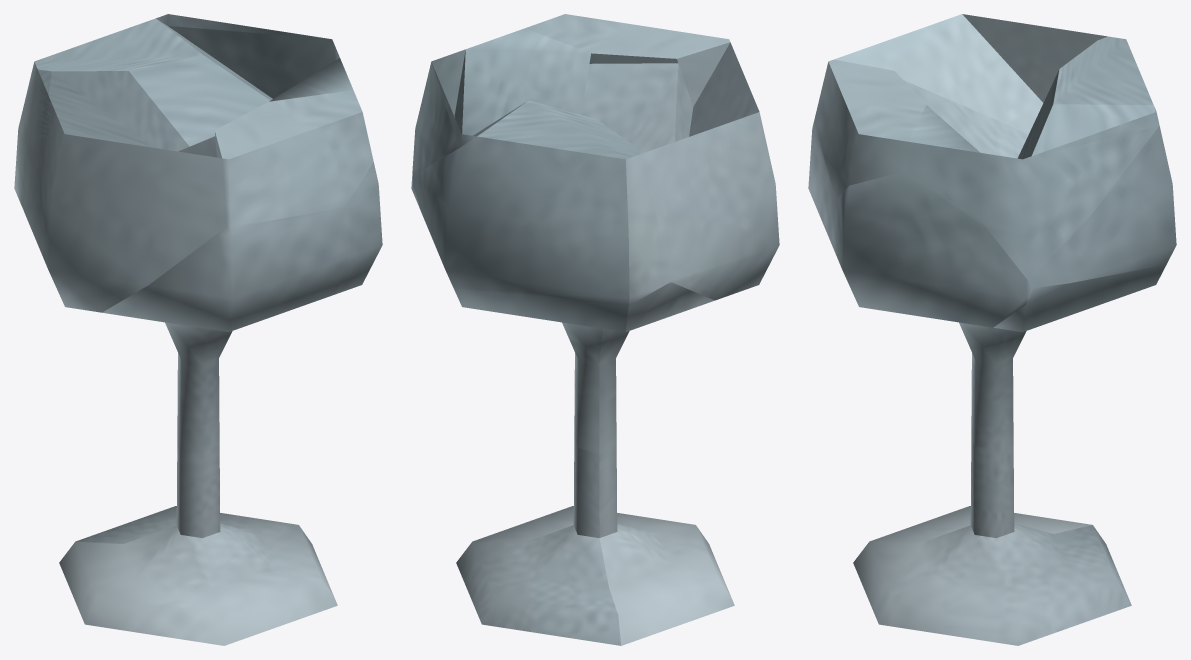
Rendered from verre_fragments.FBX.
3 renders of one model, left to right at view 1: azimuth 30°, elevation 25°; view 2: azimuth 150°, elevation 25°; view 3: azimuth 270°, elevation 25°, orthographic.
Visible parts, largest first — view 1: verre001_Part_3, verre001_Part_10, verre001_Part_1, verre001_Part_8, verre001_Part_4, verre001_Part_9, verre001_Part_5, verre001_Part_2, verre001_Part_6; view 2: verre001_Part_1, verre001_Part_3, verre001_Part_10, verre001_Part_5, verre001_Part_6, verre001_Part_7, verre001_Part_4, verre001_Part_9; view 3: verre001_Part_3, verre001_Part_2, verre001_Part_1, verre001_Part_10, verre001_Part_9, verre001_Part_4, verre001_Part_5, verre001_Part_6, verre001_Part_7, verre001_Part_8.
Part boxes in pixels (left/top/right/bottom): verre001_Part_3: left=59, top=443, right=337, bottom=645; verre001_Part_10: left=24, top=70, right=226, bottom=312; verre001_Part_1: left=14, top=18, right=272, bottom=207; verre001_Part_8: left=102, top=208, right=347, bottom=332; verre001_Part_4: left=214, top=90, right=373, bottom=226; verre001_Part_9: left=156, top=14, right=339, bottom=98; verre001_Part_5: left=22, top=207, right=232, bottom=453; verre001_Part_2: left=335, top=162, right=382, bottom=293; verre001_Part_6: left=269, top=58, right=353, bottom=101; verre001_Part_1: left=413, top=100, right=670, bottom=305; verre001_Part_3: left=456, top=436, right=734, bottom=645; verre001_Part_10: left=641, top=42, right=779, bottom=300; verre001_Part_5: left=412, top=185, right=714, bottom=454; verre001_Part_6: left=454, top=28, right=590, bottom=135; verre001_Part_7: left=581, top=63, right=693, bottom=153; verre001_Part_4: left=525, top=14, right=730, bottom=106; verre001_Part_9: left=412, top=49, right=476, bottom=174; verre001_Part_3: left=853, top=441, right=1131, bottom=645; verre001_Part_2: left=834, top=171, right=1032, bottom=327; verre001_Part_1: left=1017, top=36, right=1176, bottom=287; verre001_Part_10: left=834, top=14, right=1107, bottom=133; verre001_Part_9: left=980, top=107, right=1159, bottom=281; verre001_Part_4: left=814, top=59, right=926, bottom=199; verre001_Part_5: left=959, top=264, right=1166, bottom=448; verre001_Part_6: left=903, top=105, right=981, bottom=221; verre001_Part_7: left=904, top=80, right=1028, bottom=158; verre001_Part_8: left=808, top=121, right=836, bottom=250.
Size of the model in its own units: 12.19 by 17.34 by 11.63.
1 material, 1 textured.
